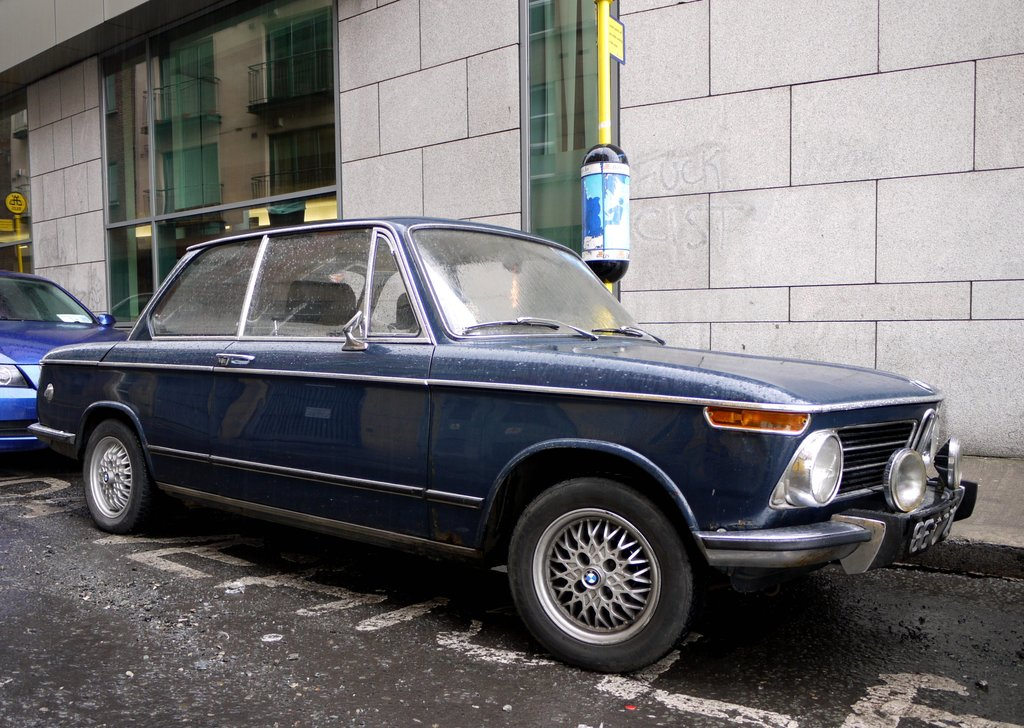mobil: (47, 216, 972, 691)
